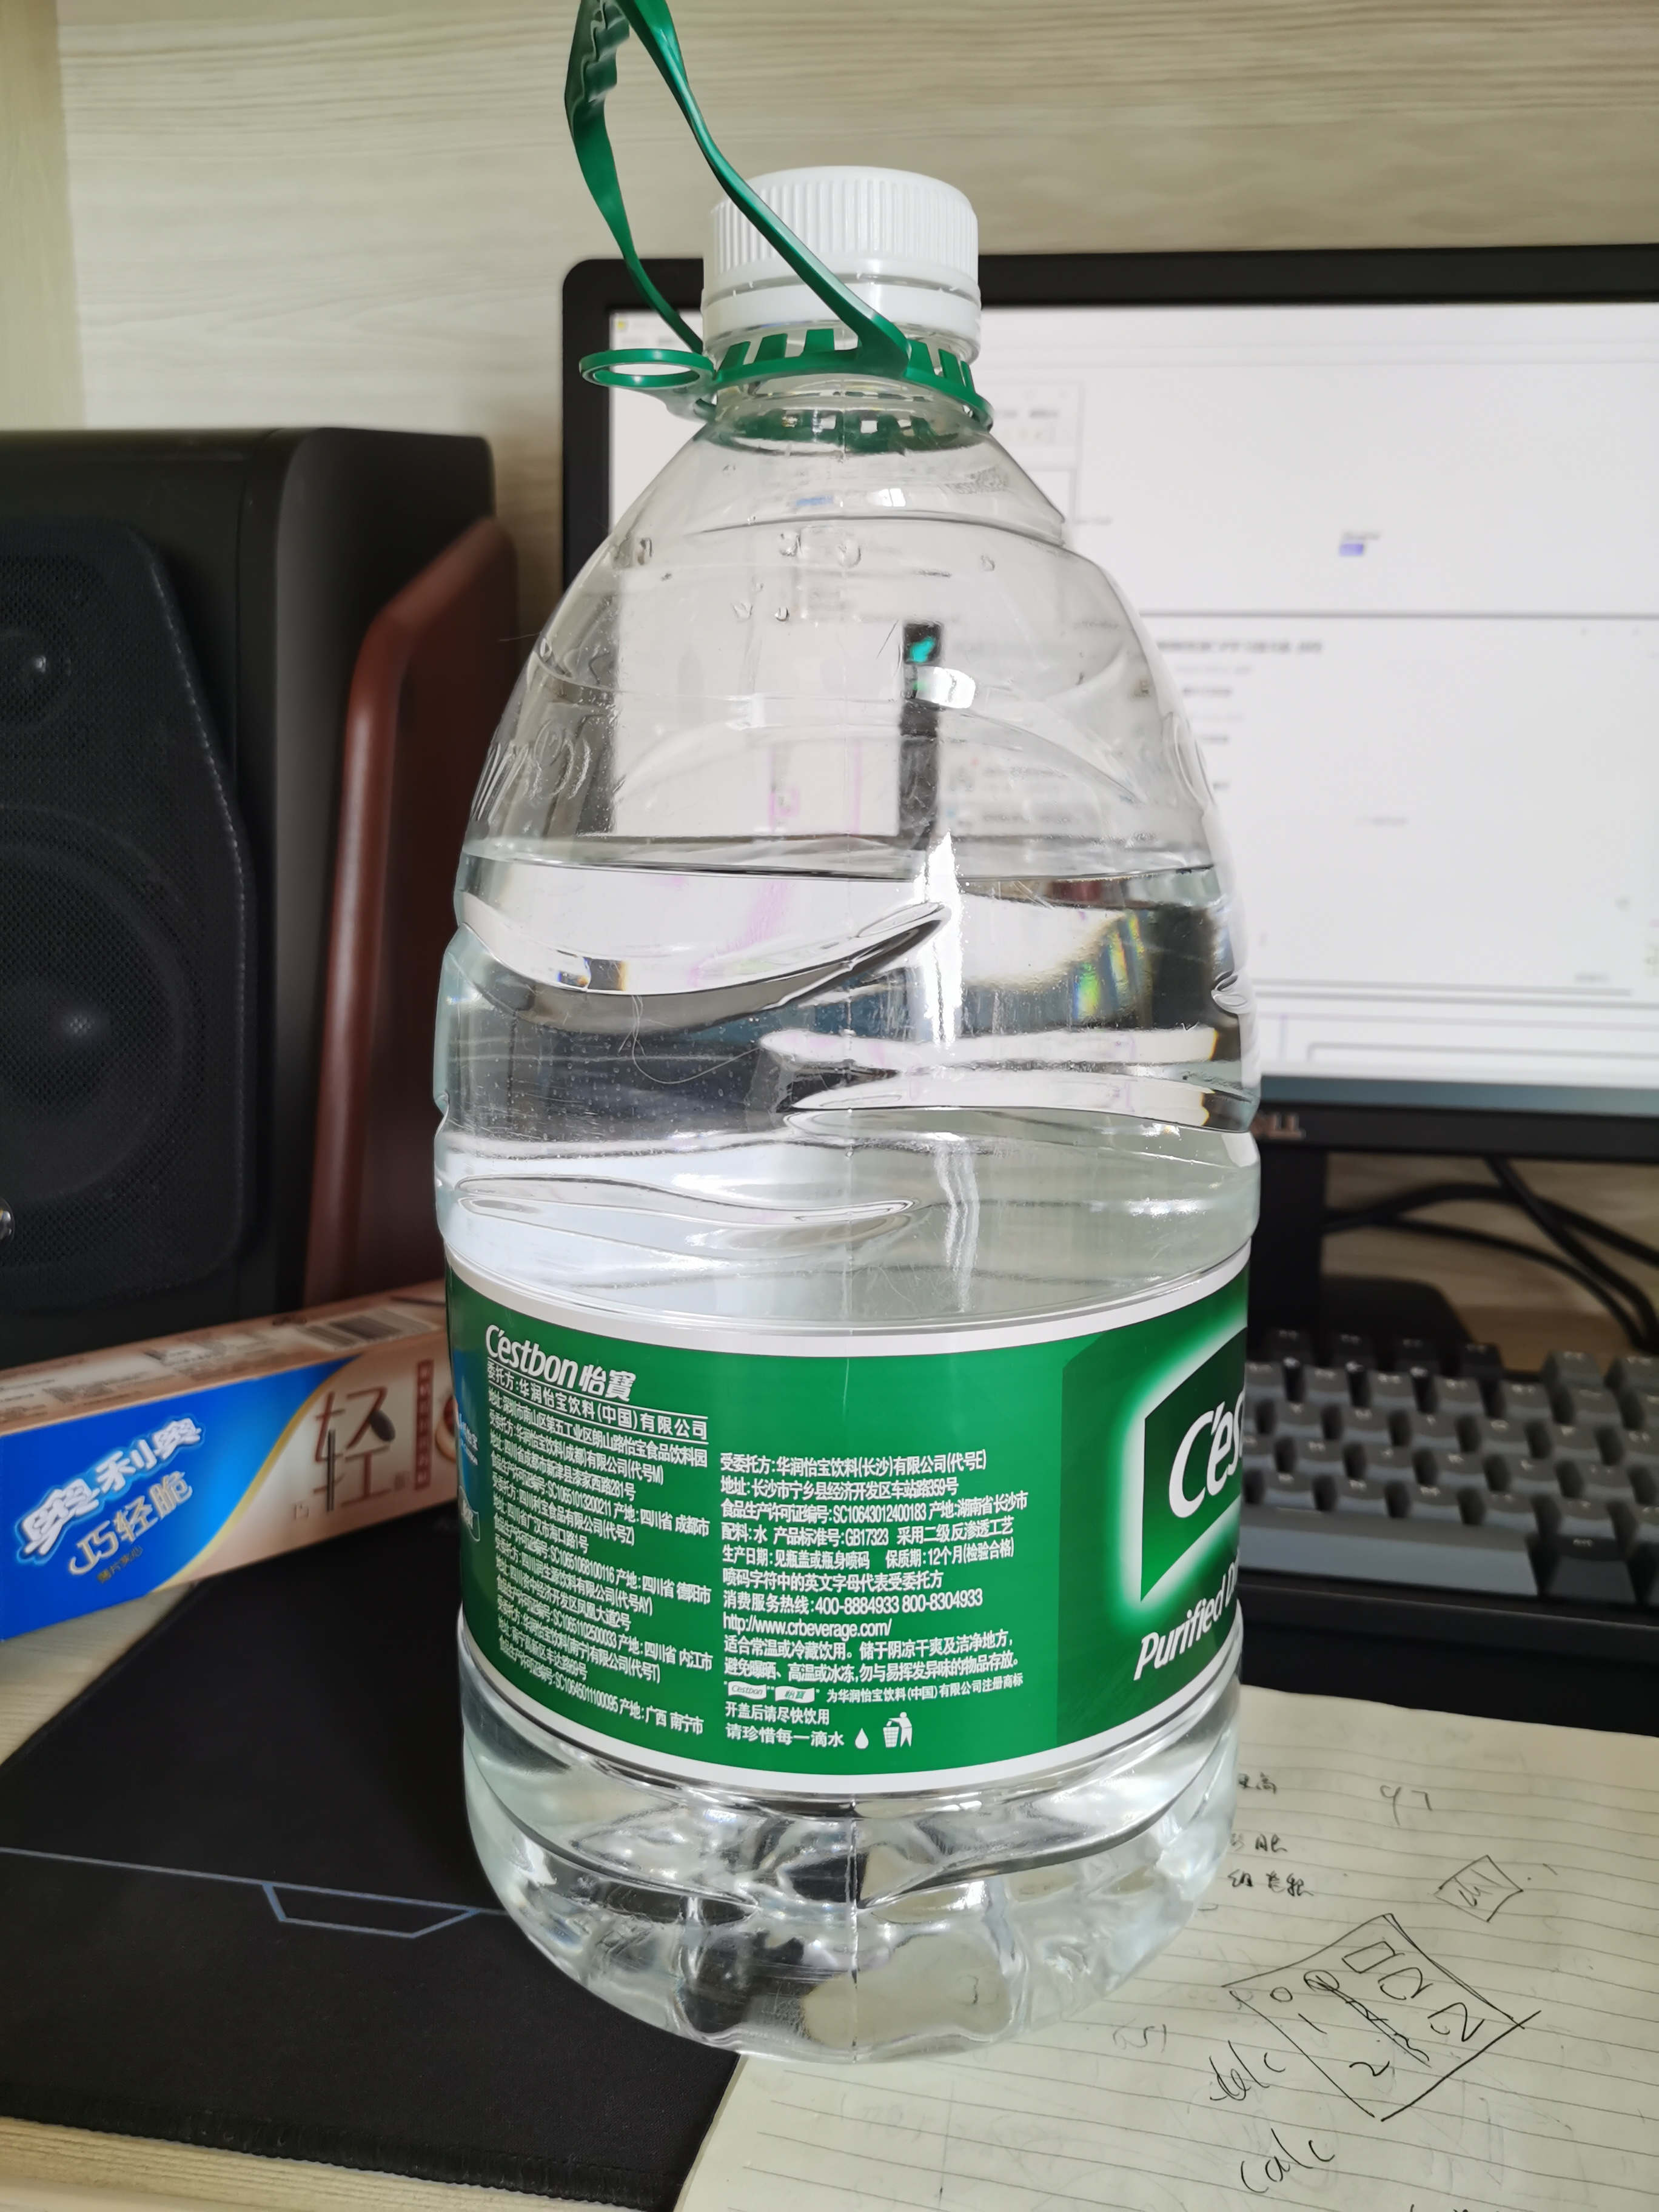怡宝: (380, 153, 1290, 2074)
